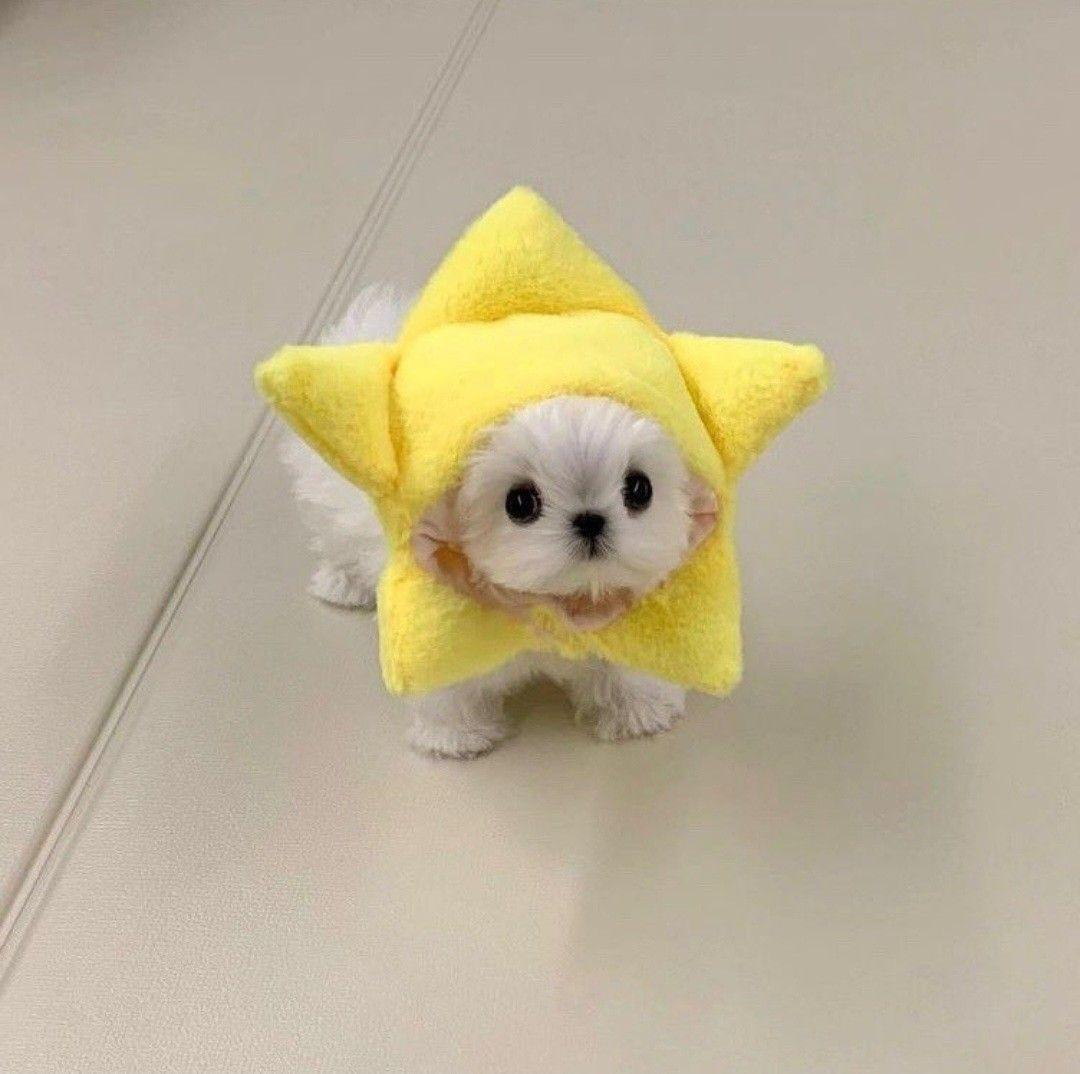puppy-dog: (249, 181, 837, 763)
